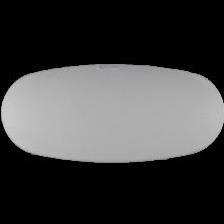55289-411: (0, 0, 224, 224)
